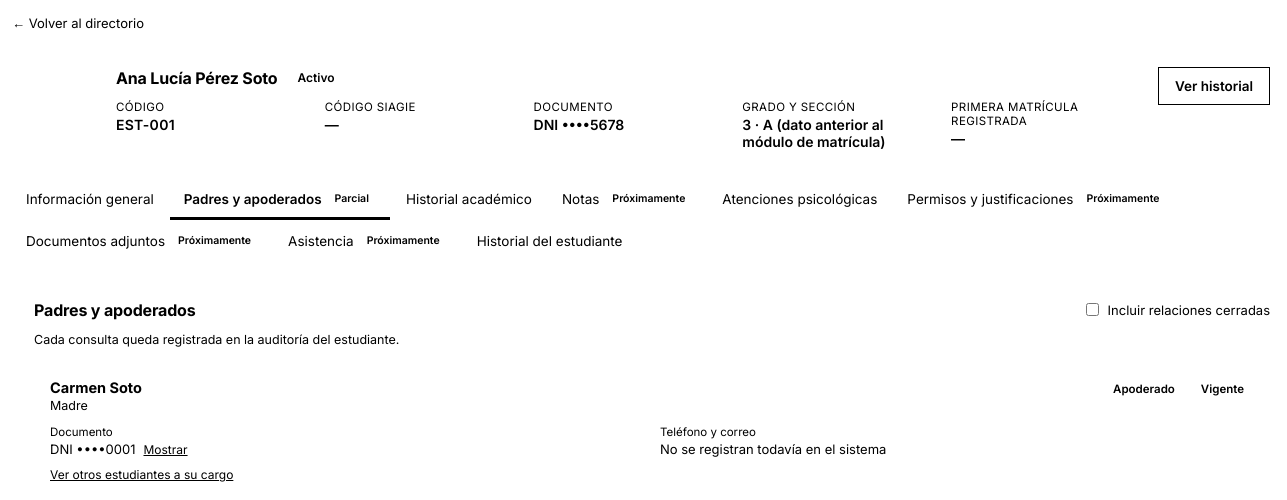
Ficha — otros estudiantes a cargo de un responsable › consulta a pedido (auditado) y lista solo otros vínculos vigentes con enlace a su ficha
Step 1. Click the button "Ver otros estudiantes a su cargo" → (142, 474), box [50,467,233,482]
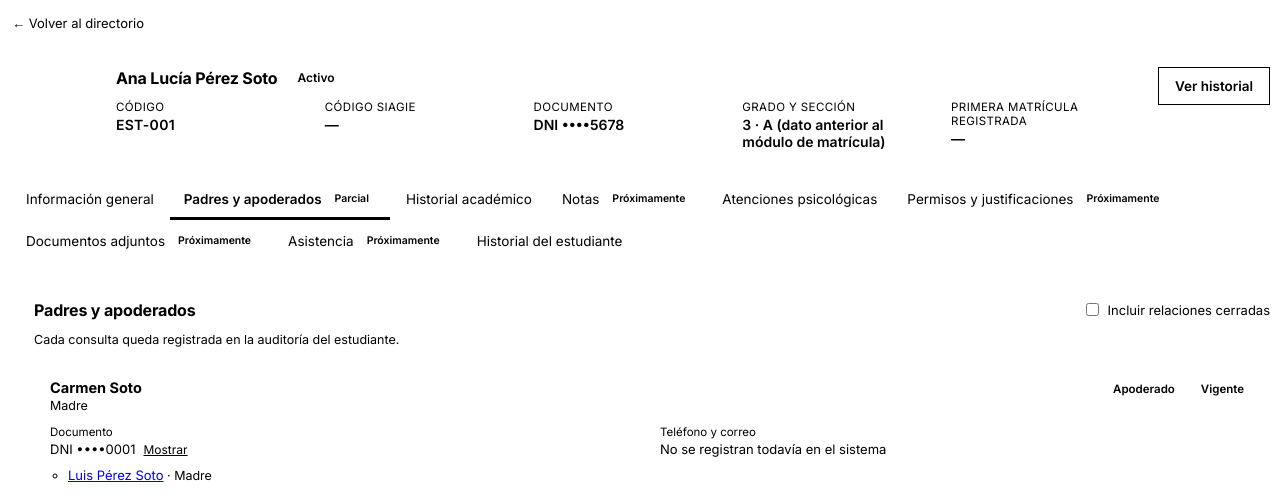
Check: the link "Luis Pérez Soto" is shown, box [68,467,164,483]
